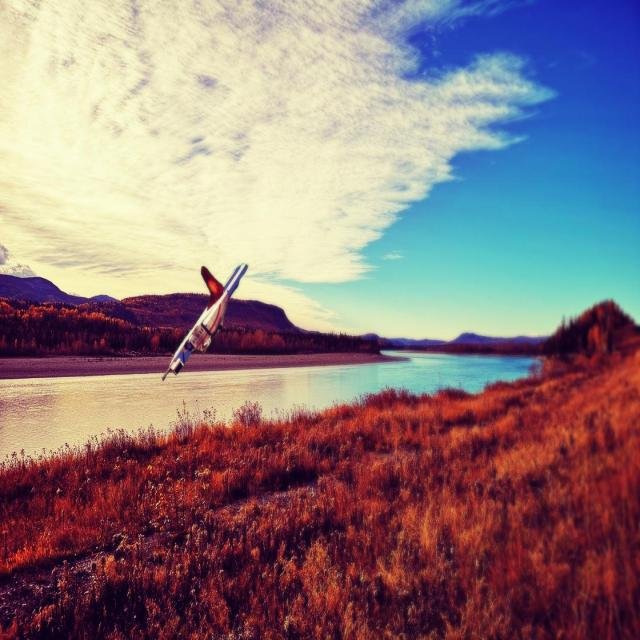airplane: (161, 262, 248, 381)
